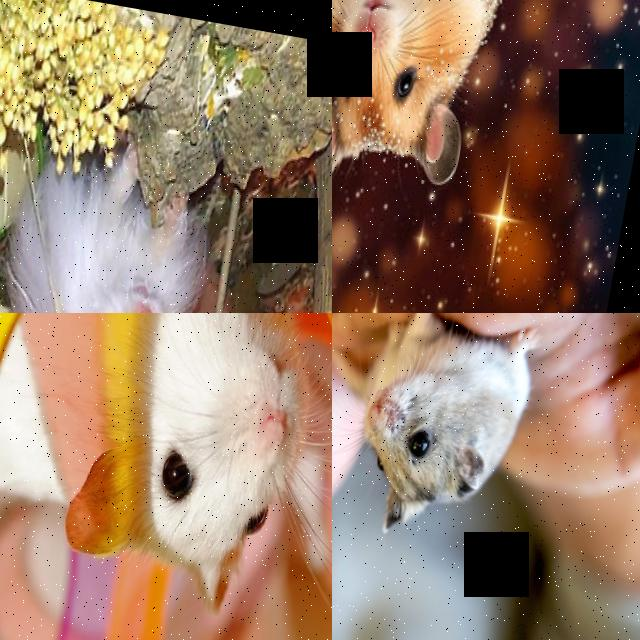hamster: (52, 313, 332, 619), (341, 313, 546, 552), (332, 0, 564, 211), (0, 148, 223, 313)
